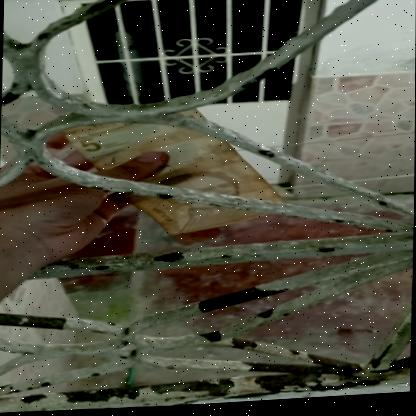vef_front: (59, 103, 290, 246)
